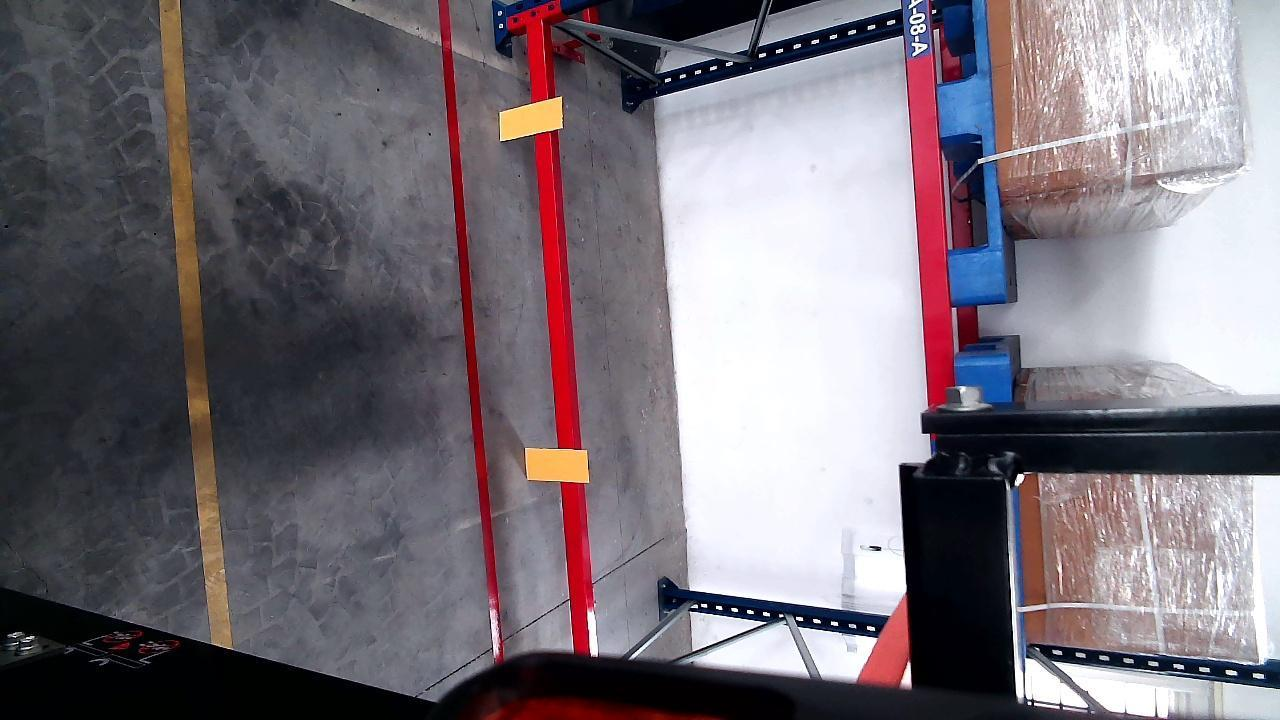h_rack: (524, 21, 591, 658)
orange_strip: (500, 99, 562, 140), (525, 447, 588, 482)
red_line: (436, 1, 506, 664)
small_pallet: (926, 1, 1013, 299)
yellow_line: (156, 0, 232, 645)
